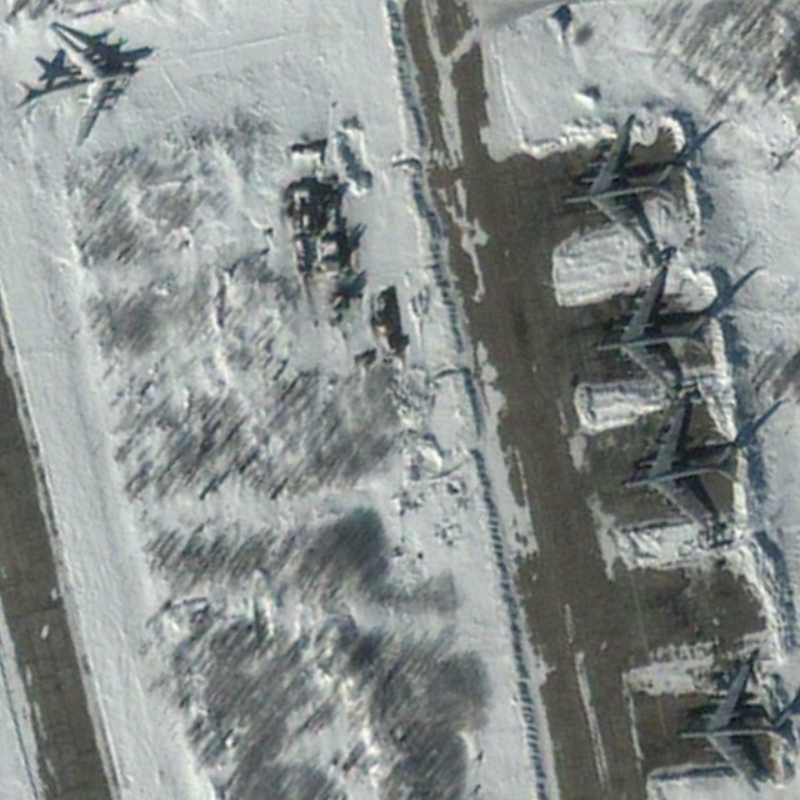A17: (613, 394, 746, 535), (555, 116, 690, 252), (587, 262, 715, 404), (672, 658, 795, 795), (10, 22, 141, 150)
